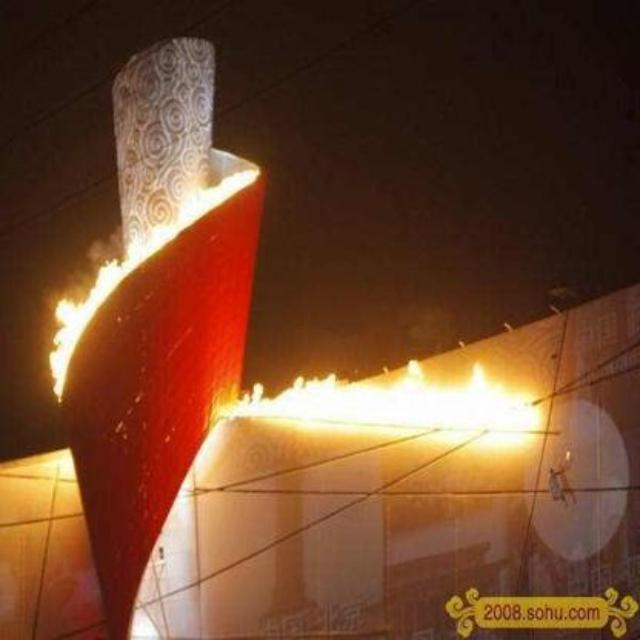Fire: (212, 364, 544, 450), (52, 288, 80, 402), (86, 265, 102, 319), (104, 266, 124, 298), (143, 221, 183, 237), (222, 169, 256, 187), (180, 191, 228, 203), (140, 241, 162, 259), (181, 204, 205, 220), (128, 245, 136, 273)
